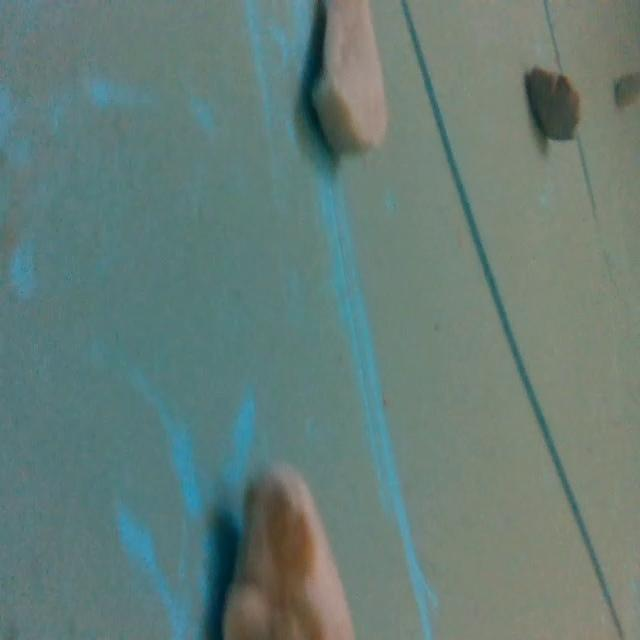rock: (214, 451, 361, 640), (302, 0, 396, 157), (521, 60, 584, 146)
